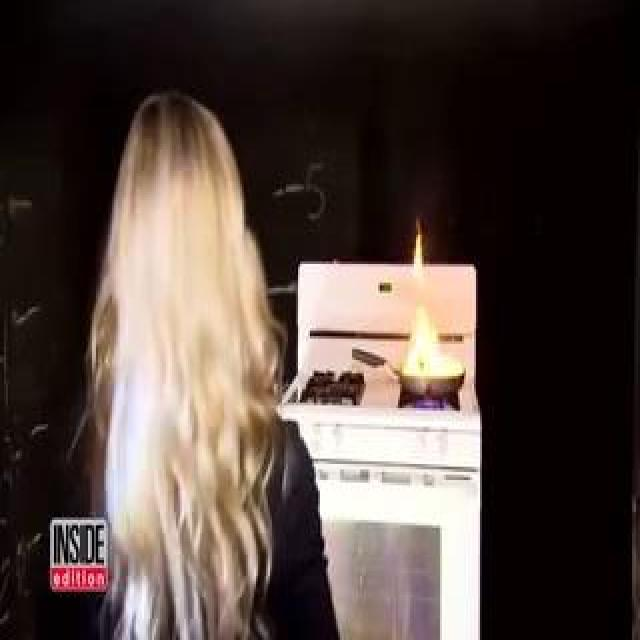Fire: (72, 106, 430, 334)
